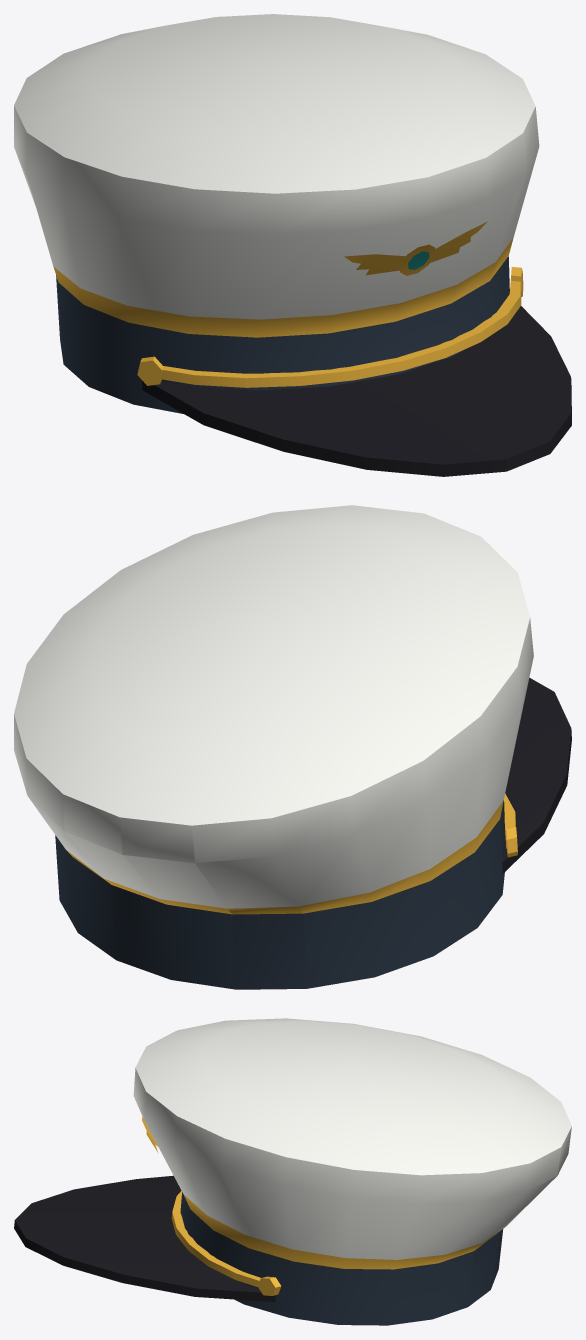
File: GorraPiloto.fbx
The picture shows the model from 3 angles, top to bottom: view 1: azimuth 30°, elevation 25°; view 2: azimuth 150°, elevation 25°; view 3: azimuth 270°, elevation 25°; orthographic projection. The views are drawn at different scales.
Visible parts, largest first — view 1: GorraPiloto; view 2: GorraPiloto; view 3: GorraPiloto.
Part boxes in pixels (x1,y1,x2,y2): GorraPiloto: [14, 14, 571, 476]; GorraPiloto: [14, 505, 571, 989]; GorraPiloto: [14, 1018, 571, 1325].
Size of the model in its own units: 1.8 by 1.21 by 2.87.
Materials: 1 (1 with a texture image).
